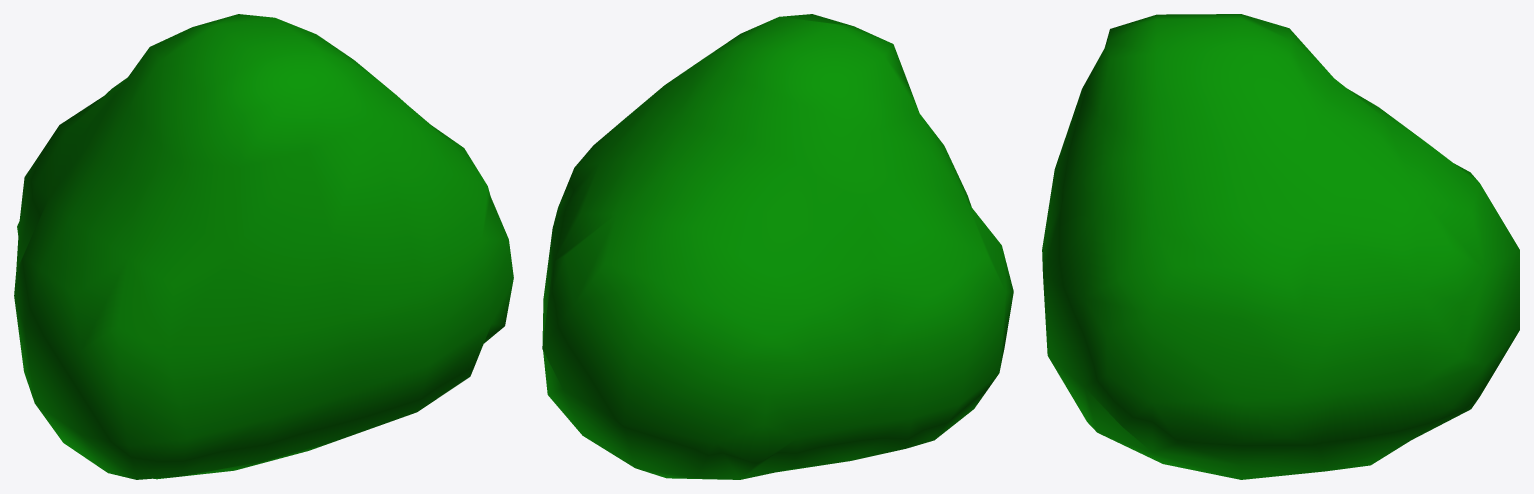
Rendered from sm_bush3_FH.fbx.
3 renders of one model, left to right at view 1: azimuth 30°, elevation 25°; view 2: azimuth 150°, elevation 25°; view 3: azimuth 270°, elevation 25°, orthographic. The views are drawn at different scales.
Parts seen in each view (by area): view 1: Mball.005; view 2: Mball.005; view 3: Mball.005.
Part boxes in pixels (x1=…): Mball.005: x1=14, y1=14, x2=513, y2=479; Mball.005: x1=542, y1=14, x2=1013, y2=479; Mball.005: x1=1042, y1=14, x2=1519, y2=479.
Bounding box in the file's own units: 299 × 280 × 293.
